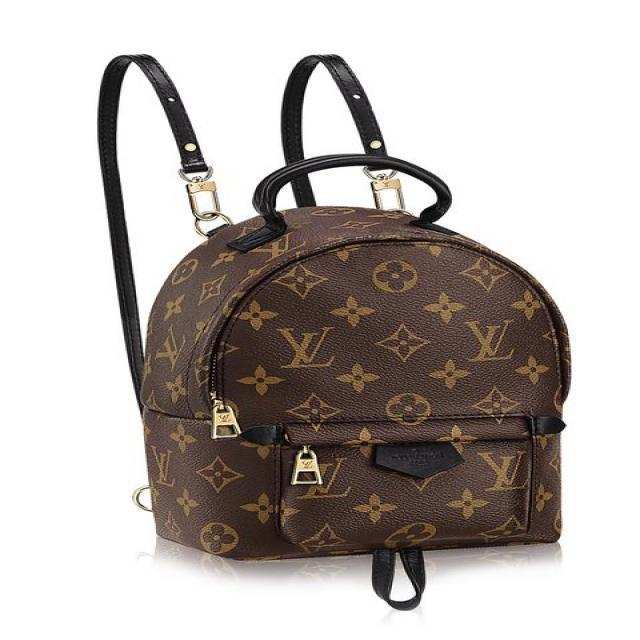Backpacks: (130, 203, 574, 557)
